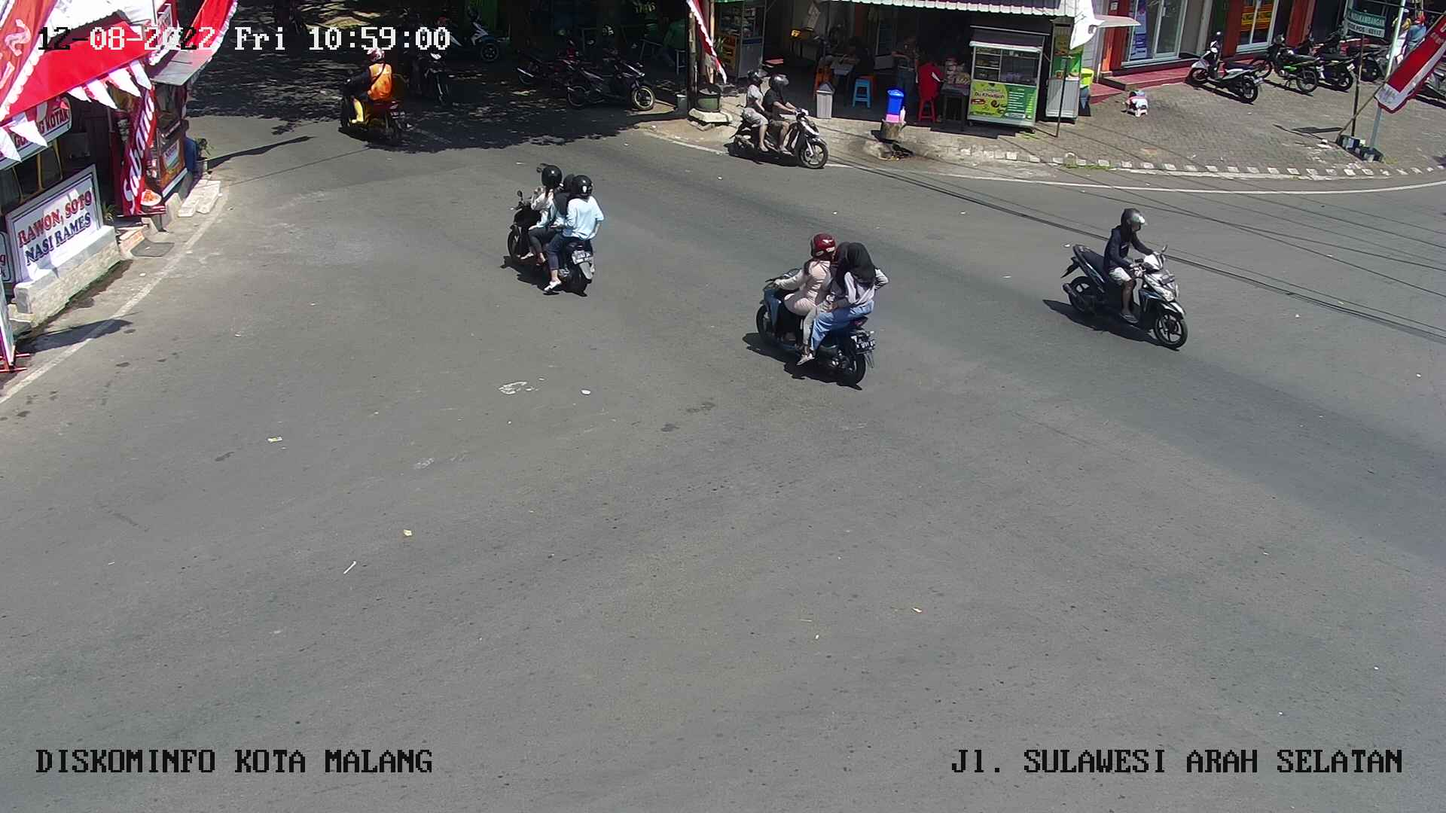with_helmet: (733, 215, 903, 415), (1049, 200, 1198, 359), (482, 145, 615, 302)
